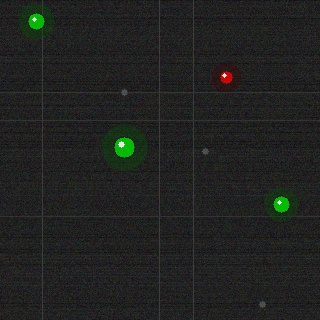green_normal: (112, 135, 136, 159), (271, 194, 291, 214), (26, 11, 46, 31)
red_fault: (218, 69, 234, 85)
